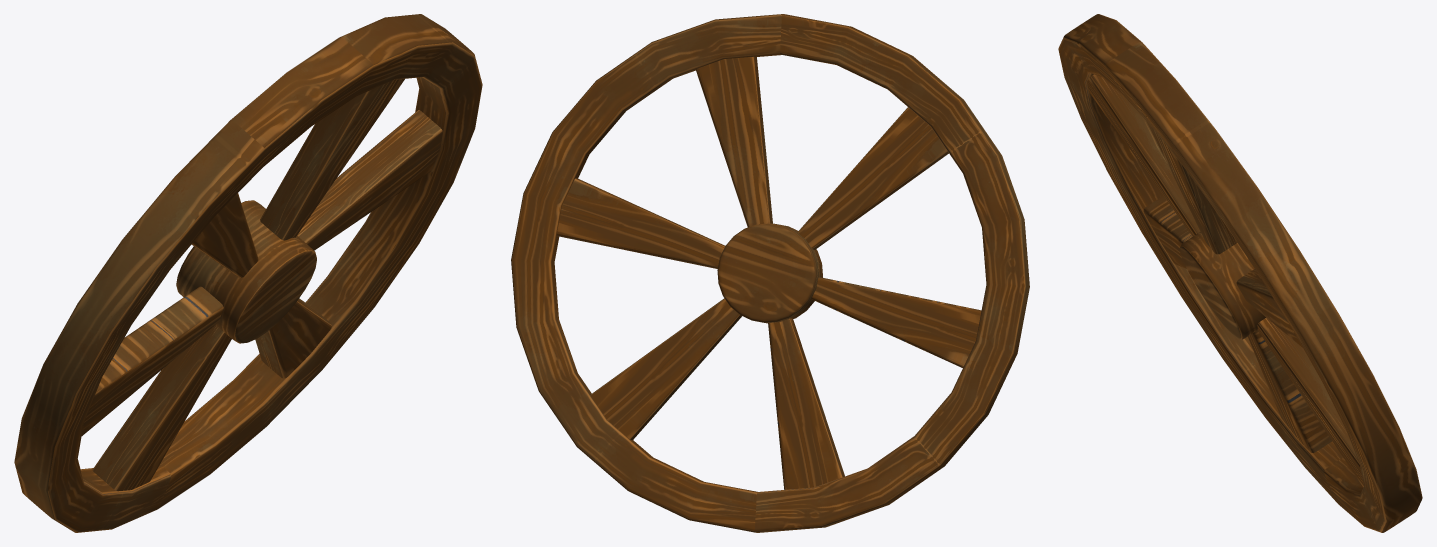
3 views of the same model, side by side, from view 1: azimuth 30°, elevation 25°; view 2: azimuth 150°, elevation 25°; view 3: azimuth 270°, elevation 25° (orthographic). The views are drawn at different scales.
Parts seen in each view (by area): view 1: Cylinder.005; view 2: Cylinder.005; view 3: Cylinder.005.
Boxes of the visible parts, x1=… form: Cylinder.005: x1=14, y1=14, x2=482, y2=532; Cylinder.005: x1=511, y1=14, x2=1029, y2=532; Cylinder.005: x1=1058, y1=14, x2=1422, y2=532.
Size of the model in its own units: 120 by 117 by 77.48.
Materials: 1 (1 with a texture image).
